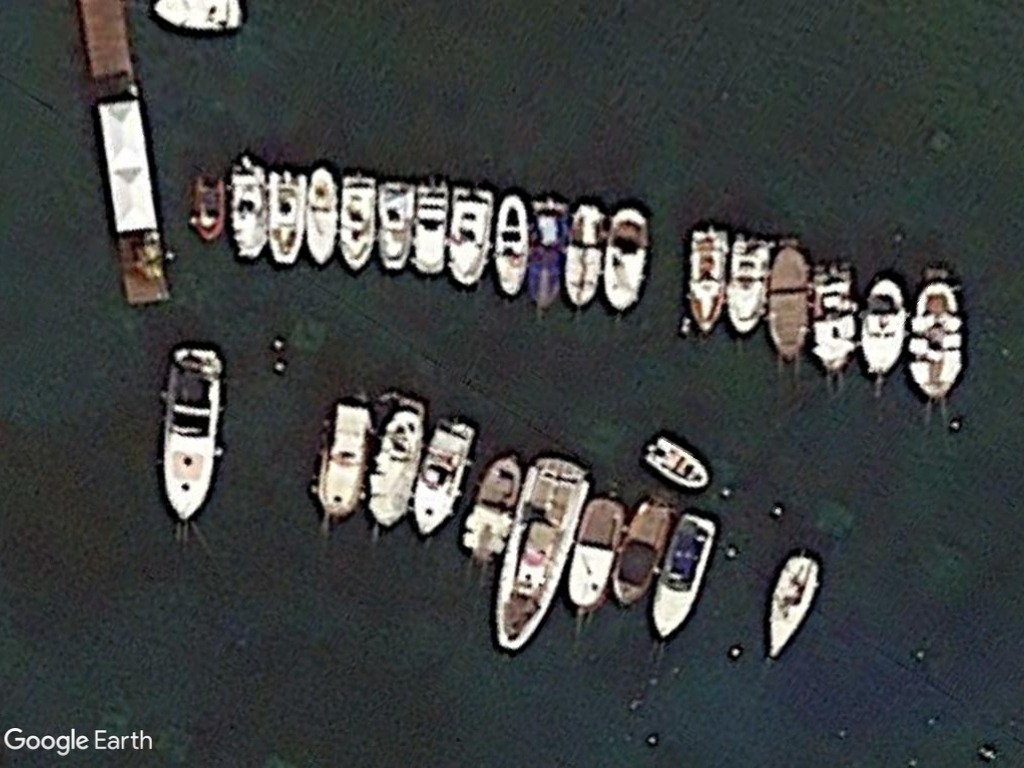boat: (494, 453, 597, 660), (159, 338, 228, 528), (904, 268, 973, 408), (651, 509, 722, 643), (309, 391, 378, 527), (366, 398, 432, 534), (413, 414, 483, 538), (754, 551, 829, 665), (569, 485, 630, 617), (457, 448, 522, 570), (615, 486, 674, 612), (806, 252, 860, 385), (767, 232, 814, 373), (859, 265, 908, 387), (602, 206, 655, 315), (522, 187, 566, 316), (564, 194, 608, 319), (682, 221, 728, 338), (448, 176, 493, 294), (261, 159, 306, 273), (643, 428, 715, 497), (489, 184, 530, 304), (729, 224, 769, 343), (300, 157, 340, 273), (228, 152, 268, 268), (337, 165, 377, 276), (411, 173, 450, 284), (377, 173, 414, 279), (188, 166, 228, 246)
